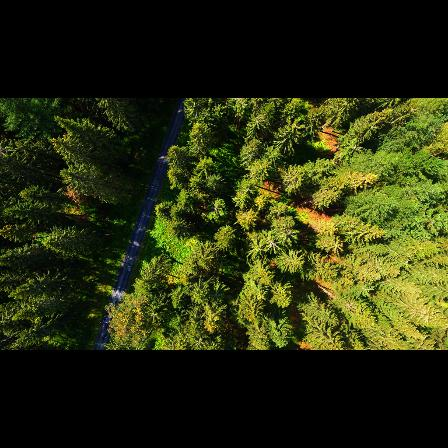Sick: (260, 235, 284, 255)
